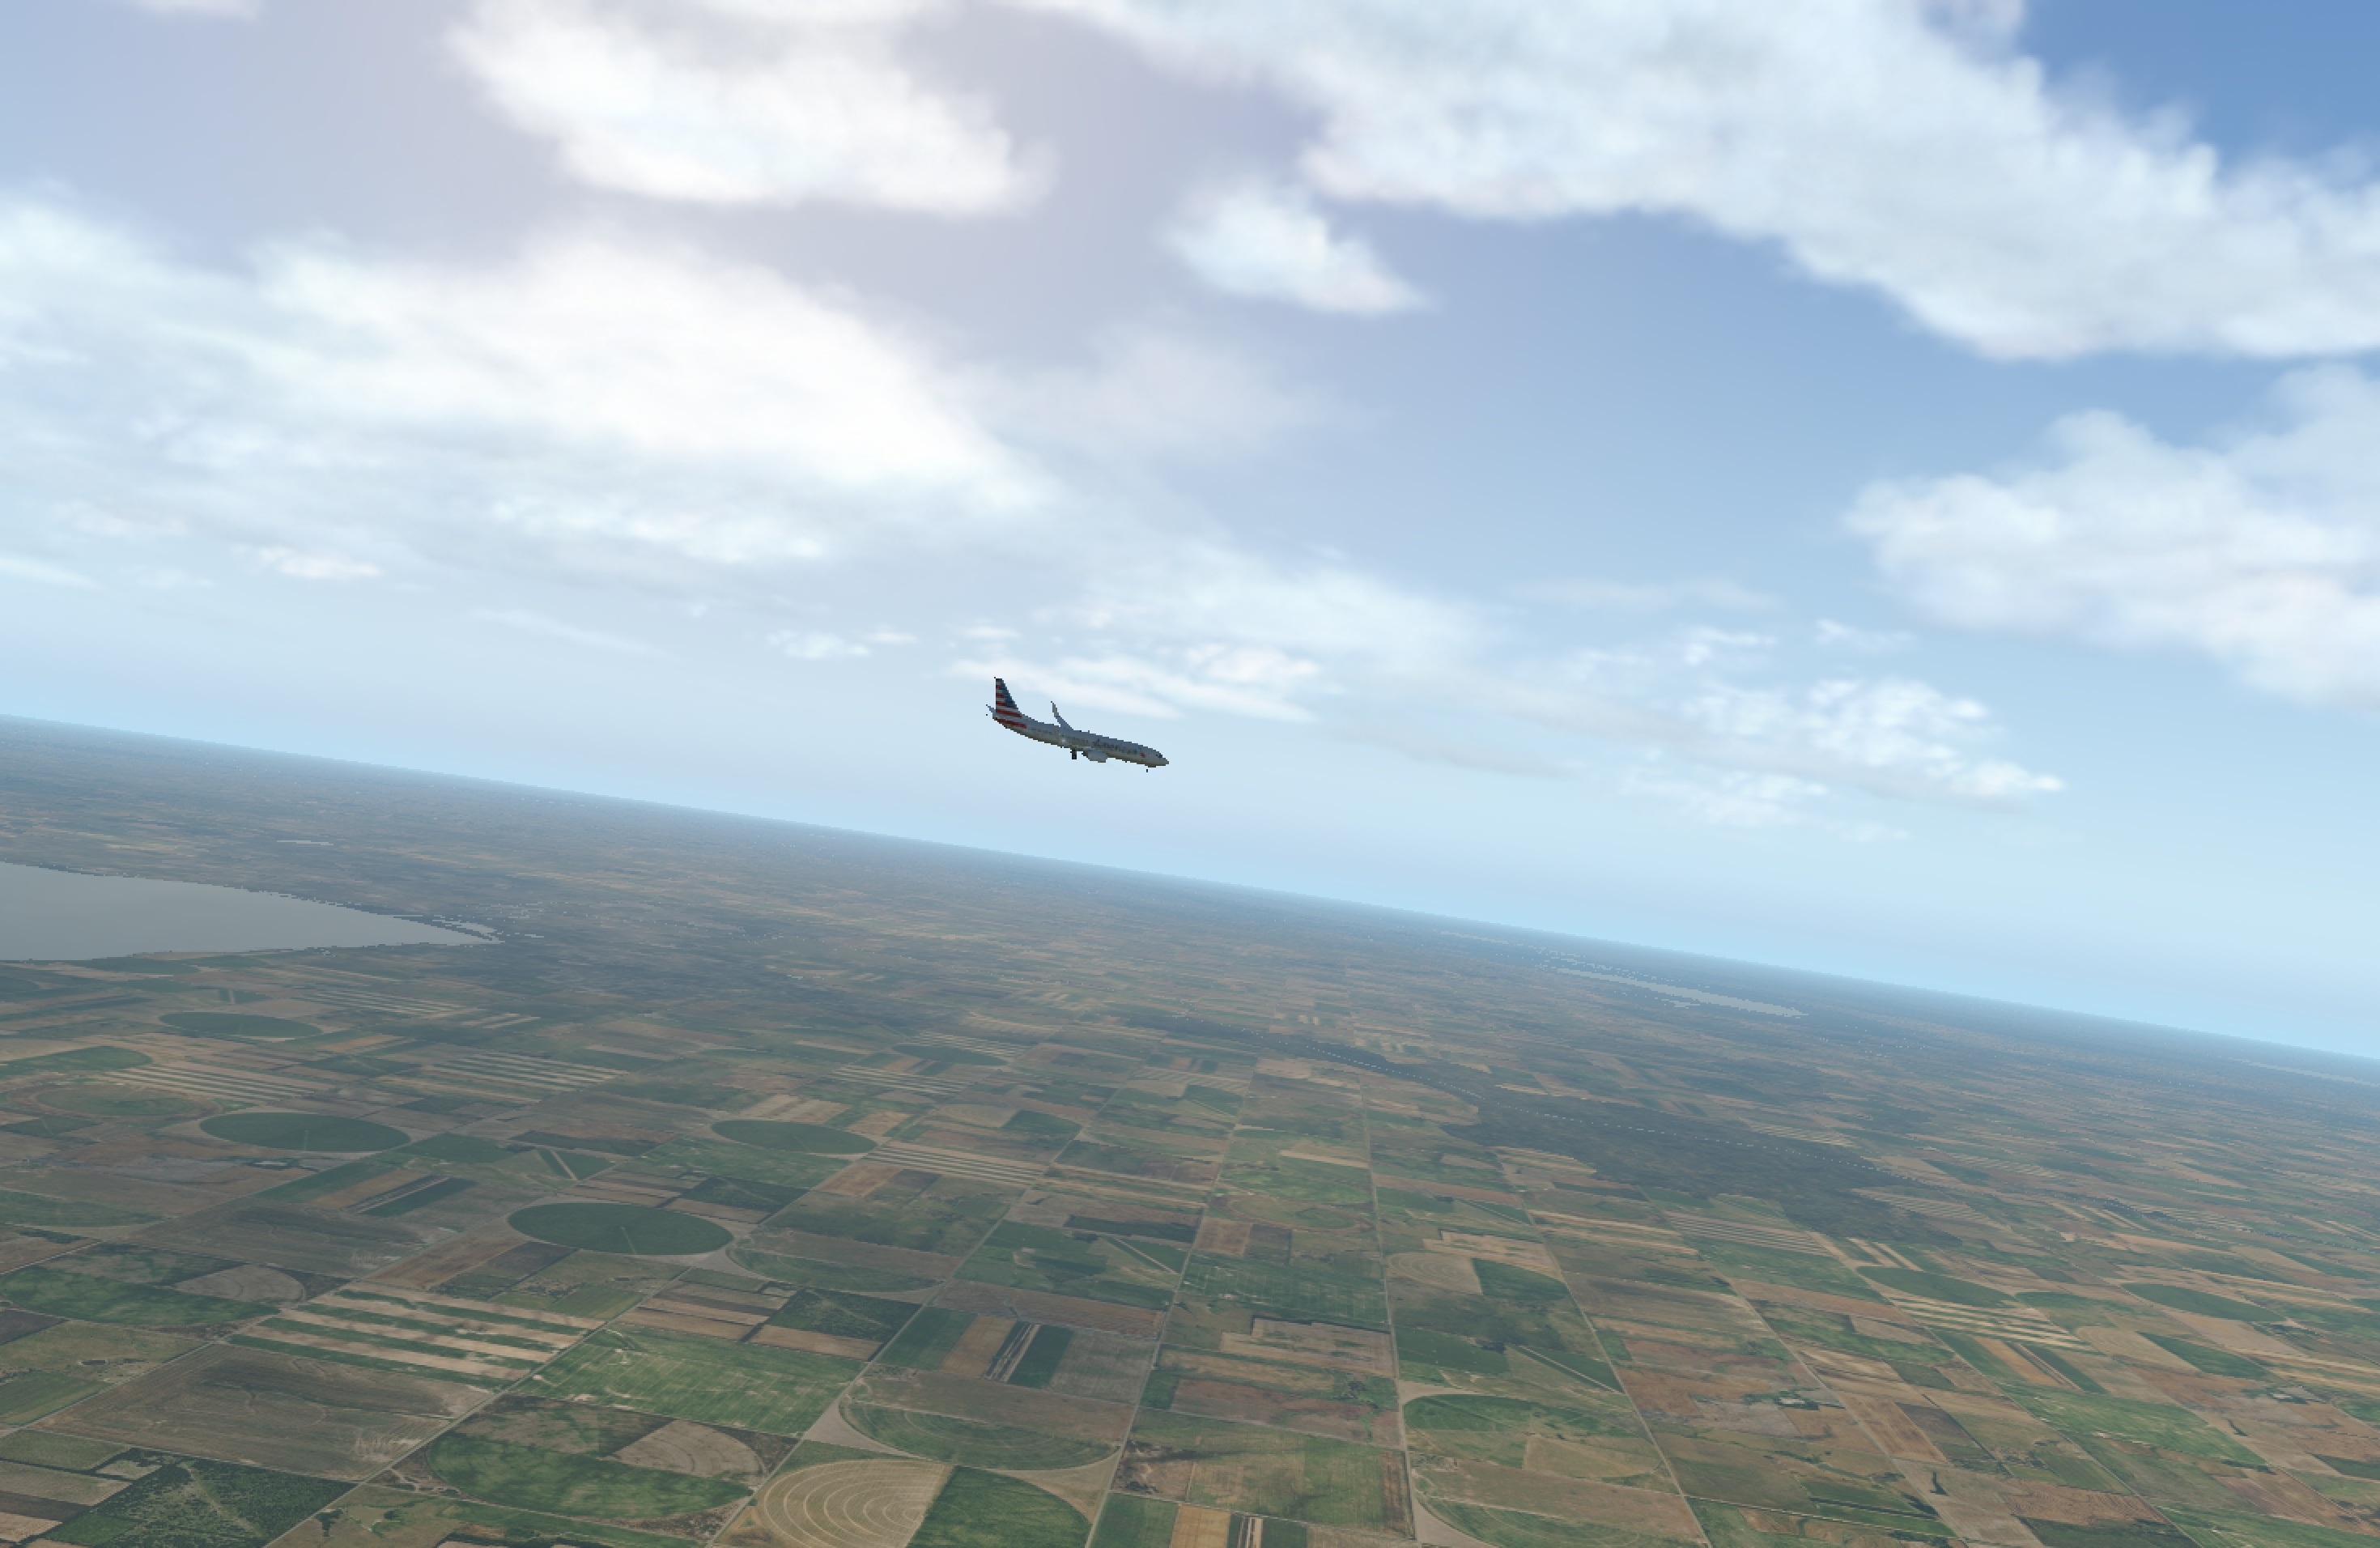aircraft: (989, 710, 1178, 781)
